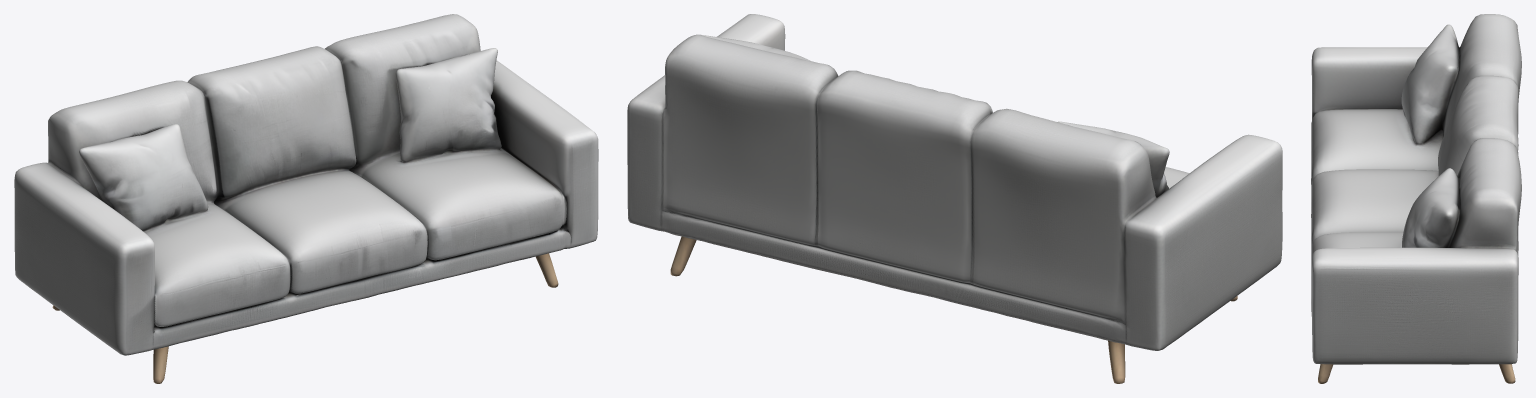
Rendered from sofa.glb.
3 renders of one model, left to right at view 1: azimuth 30°, elevation 25°; view 2: azimuth 150°, elevation 25°; view 3: azimuth 270°, elevation 25°, orthographic. The views are drawn at different scales.
Parts seen in each view (by area): view 1: model; view 2: model; view 3: model.
Part boxes in pixels (x1,y1,x2,y2): model: [14, 14, 598, 383]; model: [627, 14, 1282, 383]; model: [1311, 14, 1521, 383].
Size of the model in its own units: 1.79 by 0.7246 by 0.7221.
Materials: 1 (1 with a texture image).
